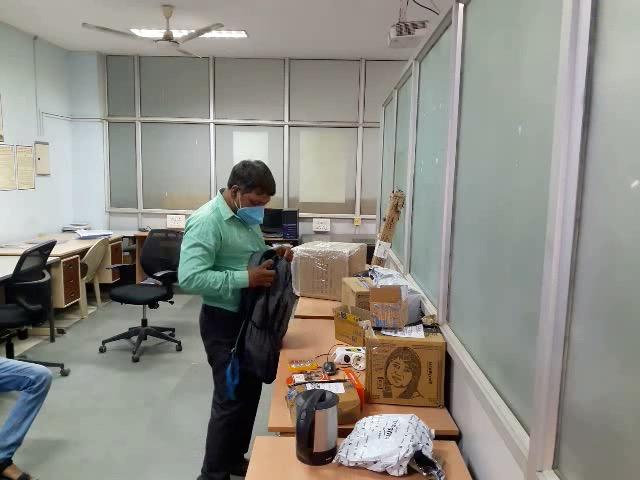shoplifting: (152, 229, 370, 392)
